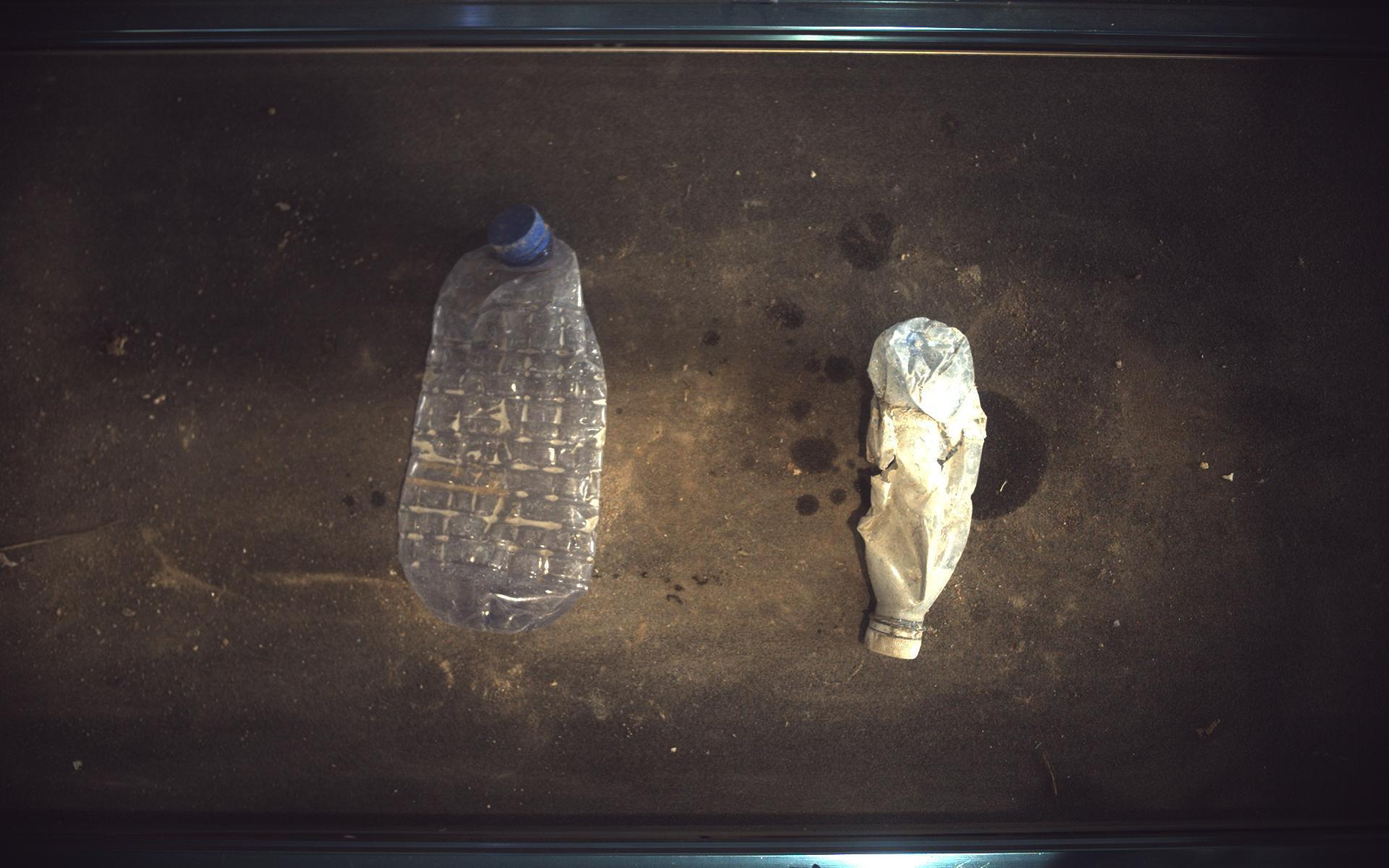general_w: (399, 204, 607, 634), (859, 317, 989, 660)
